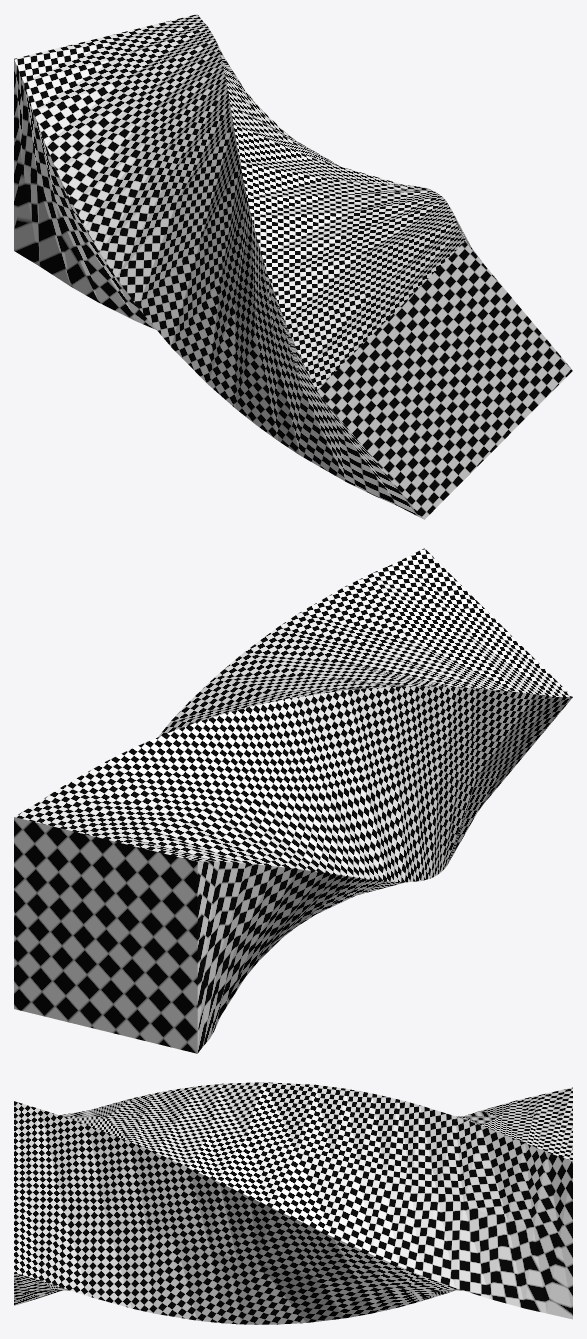
File: lamp-3.obj
3 views of the same model, one above another, from view 1: azimuth 30°, elevation 25°; view 2: azimuth 150°, elevation 25°; view 3: azimuth 270°, elevation 25° (orthographic). The views are drawn at different scales.
Bounding box in the file's own units: 13.97 × 13.97 × 32.
